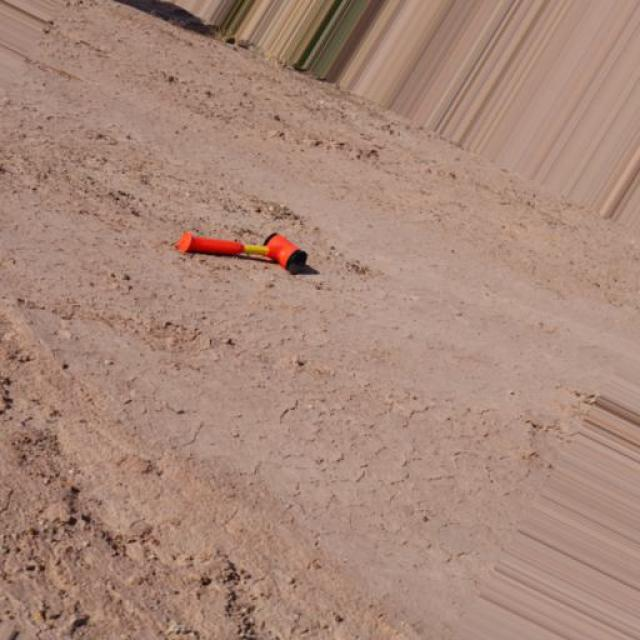mallet: (172, 228, 308, 274)
